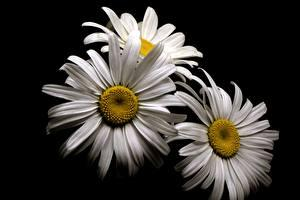chamomile: (74, 53, 166, 154), (184, 98, 276, 196), (113, 24, 189, 62)
